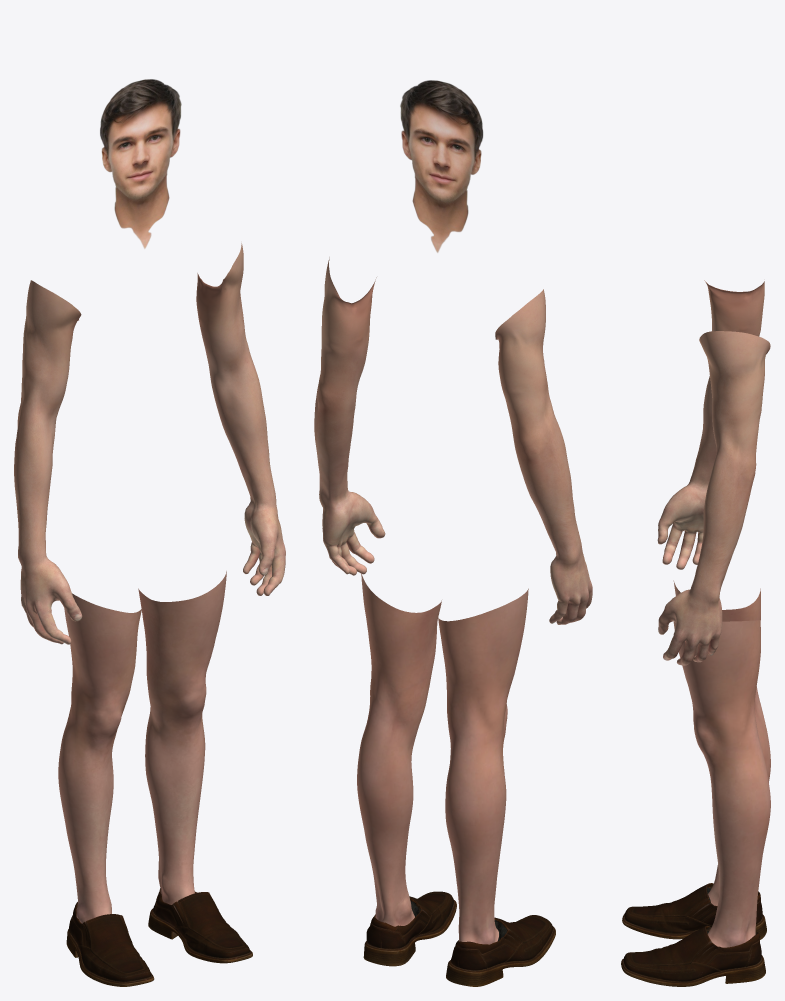
File: male_model_SS.glb
3 renders of one model, left to right at view 1: azimuth 30°, elevation 25°; view 2: azimuth 150°, elevation 25°; view 3: azimuth 270°, elevation 25°, orthographic. The views are drawn at different scales.
Parts seen in each view (by area): view 1: body001_3, body_Node001, sh_oldOxfordShoeobjcleanermaterialmergergles, face_plane, face_plane_neck; view 2: body001_3, body_Node001, sh_oldOxfordShoeobjcleanermaterialmergergles, face_plane, face_plane_neck; view 3: body_Node001, body001_3, sh_oldOxfordShoeobjcleanermaterialmergergles.
Boxes of the visible parts, left/top/right/bottom form: body001_3: left=58, top=571, right=226, bottom=923; body_Node001: left=14, top=243, right=285, bottom=644; sh_oldOxfordShoeobjcleanermaterialmergergles: left=66, top=888, right=252, bottom=986; face_plane: left=100, top=79, right=181, bottom=199; face_plane_neck: left=114, top=175, right=169, bottom=248; body001_3: left=357, top=572, right=528, bottom=944; body_Node001: left=314, top=257, right=592, bottom=624; sh_oldOxfordShoeobjcleanermaterialmergergles: left=363, top=891, right=555, bottom=986; face_plane: left=400, top=80, right=483, bottom=202; face_plane_neck: left=412, top=177, right=468, bottom=252; body_Node001: left=657, top=280, right=770, bottom=665; body001_3: left=673, top=580, right=770, bottom=947; sh_oldOxfordShoeobjcleanermaterialmergergles: left=621, top=883, right=766, bottom=986.
Size of the model in its own units: 59.17 by 200 by 30.66.
Materials: 5 (5 with a texture image).
